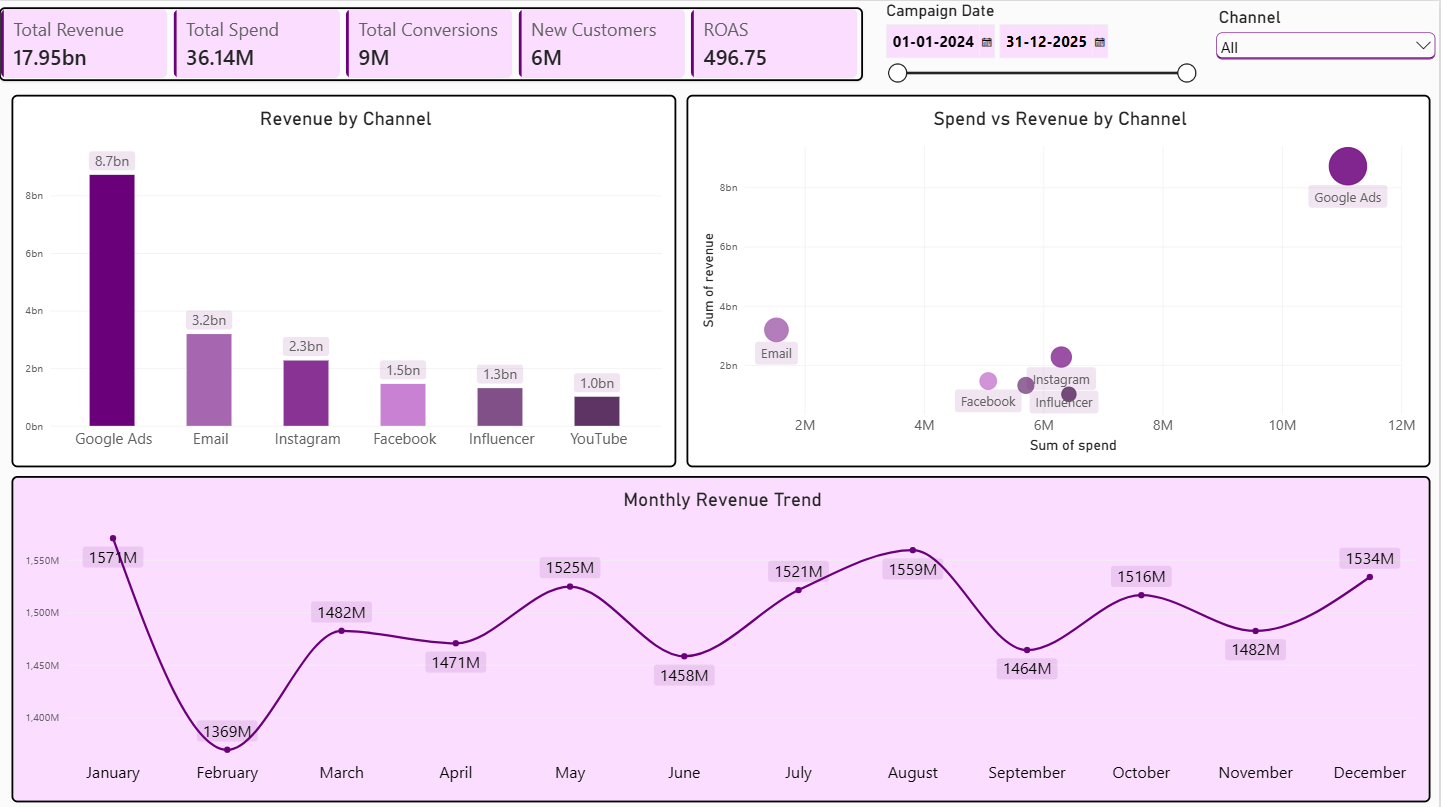

This screenshot's page, from the dashboard's own definition file:
{"tool":"powerbi","page":{"name":"Marketing Overview","canvas":[1920,1080],"ordinal":0},"visuals":[{"type":"cardVisual","fields":{"Data":["Sum(public marketing_cleaned.revenue)","Sum(public marketing_cleaned.spend)","Sum(public marketing_cleaned.conversions)","Sum(public marketing_cleaned.new_customers)","public marketing_cleaned.ROAS"]},"box":[0,8.3,1151.7,98.3],"z":0},{"type":"clusteredColumnChart","title":"Revenue by Channel","fields":{"Category":["public marketing_cleaned.channel"],"Y":["Sum(public marketing_cleaned.revenue)"]},"box":[16.7,125,886.7,496.7],"z":1000},{"type":"lineChart","title":"Monthly Revenue Trend","fields":{"Category":["public marketing_cleaned.campaign_date.Variation.Date Hierarchy.Month"],"Y":["Sum(public marketing_cleaned.revenue)"]},"box":[16.7,633.3,1891.7,435],"z":2000},{"type":"slicer","fields":{"Values":["public marketing_cleaned.campaign_date"]},"box":[1175,0,425,271.7],"z":3000},{"type":"scatterChart","title":"Spend vs Revenue by Channel","fields":{"Category":["public marketing_cleaned.channel"],"Size":["Sum(public marketing_cleaned.conversions)"],"X":["Sum(public marketing_cleaned.spend)"],"Y":["Sum(public marketing_cleaned.revenue)"]},"box":[916.7,125,991.7,496.7],"z":4000},{"type":"slicer","fields":{"Values":["public marketing_cleaned.campaign_type"]},"box":[1618.3,8.3,301.7,98.3],"z":5000}]}

Visuals, with their boxes in screenshot pixels (x1, y1, x2, y2), scaled from the page's 1920x1080 canvas onto the 1441x807 screenshot:
cardVisual - Sum(public marketing_cleaned.revenue) x Sum(public marketing_cleaned.spend): {"x1": 0, "y1": 6, "x2": 864, "y2": 80}
"Revenue by Channel" clusteredColumnChart: {"x1": 13, "y1": 93, "x2": 678, "y2": 465}
"Monthly Revenue Trend" lineChart: {"x1": 13, "y1": 473, "x2": 1432, "y2": 798}
slicer - public marketing_cleaned.campaign_date: {"x1": 882, "y1": 0, "x2": 1201, "y2": 203}
"Spend vs Revenue by Channel" scatterChart: {"x1": 688, "y1": 93, "x2": 1432, "y2": 465}
slicer - public marketing_cleaned.campaign_type: {"x1": 1215, "y1": 6, "x2": 1440, "y2": 80}
